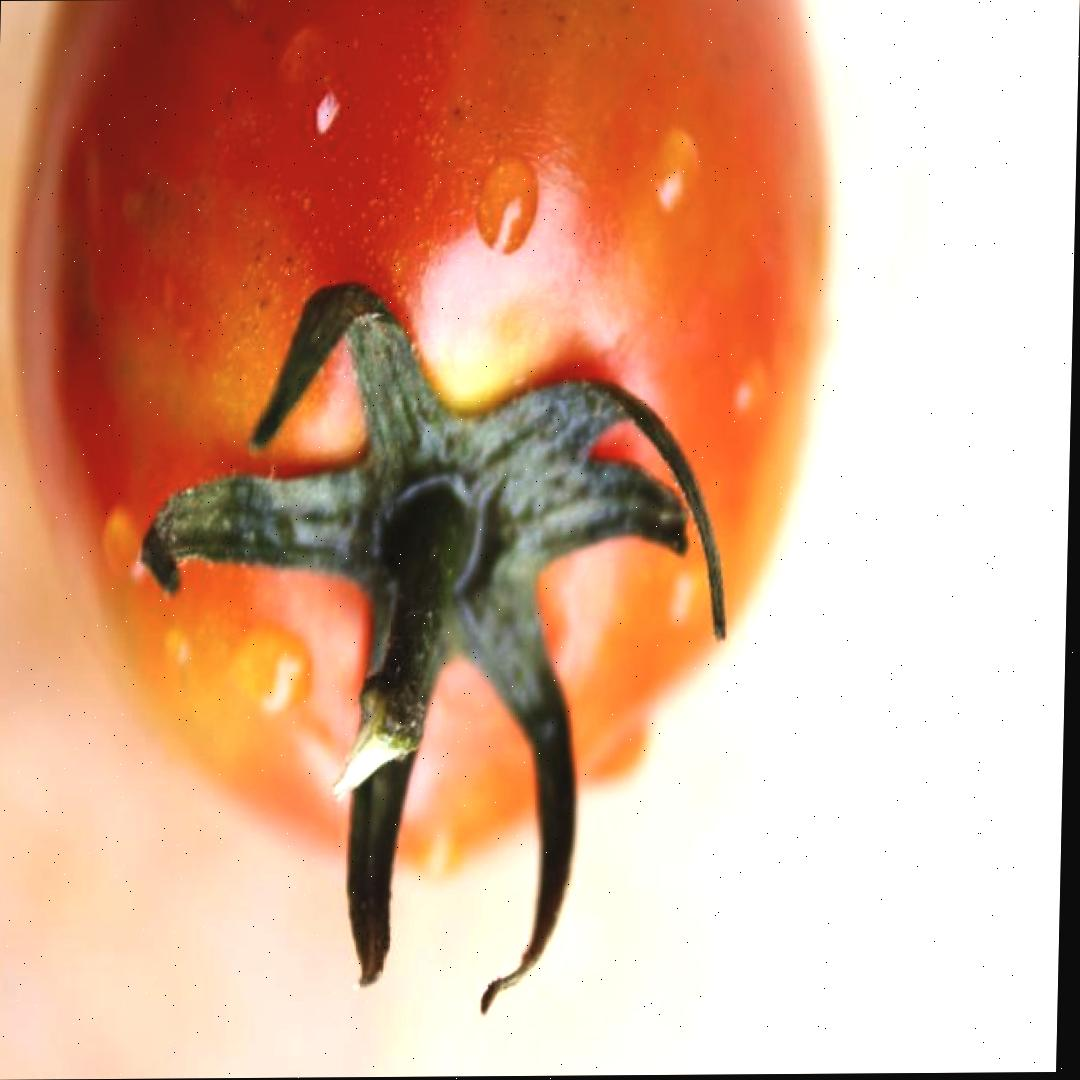matang: (0, 0, 830, 870)
